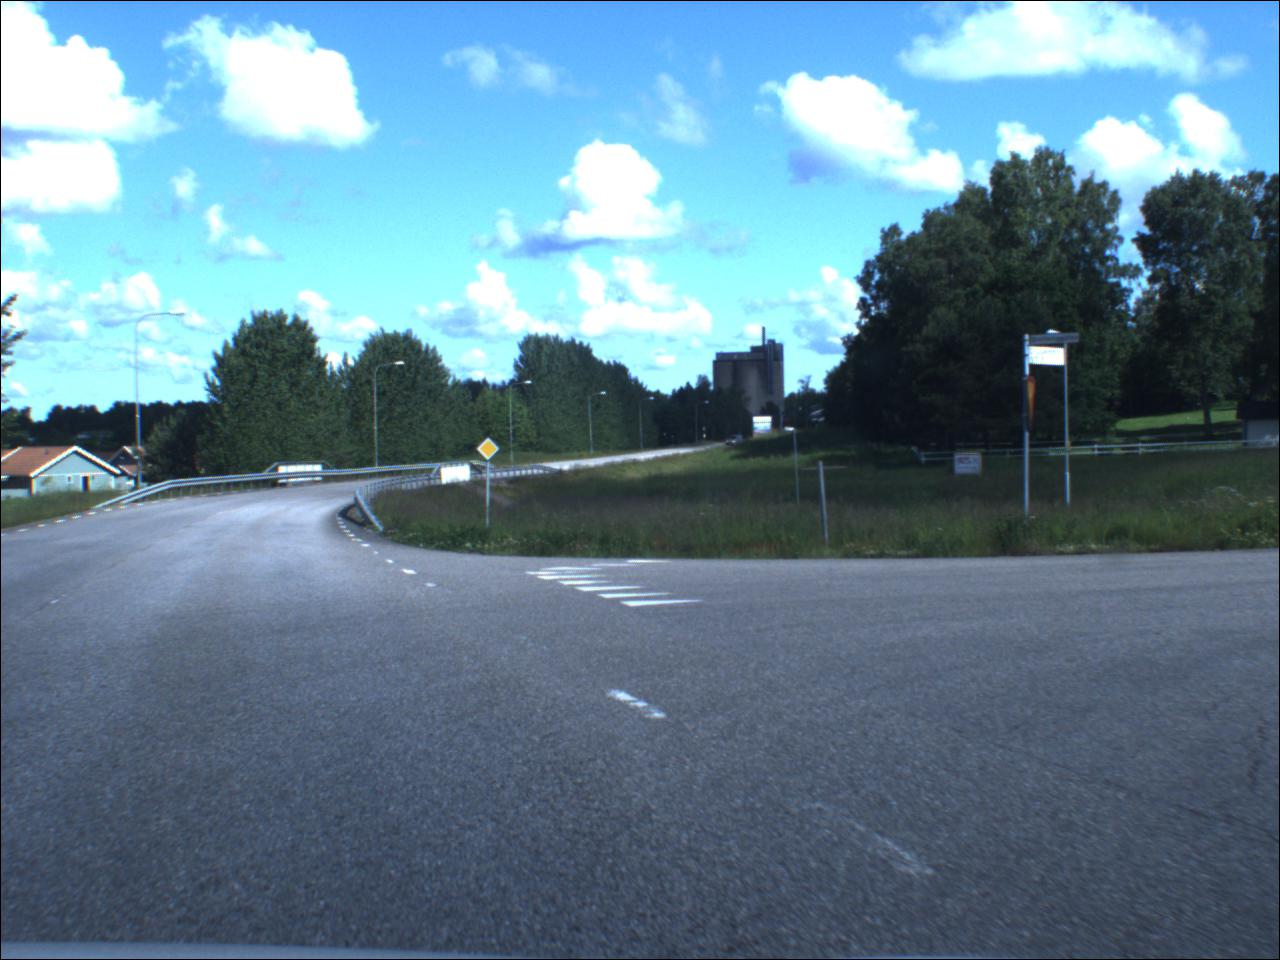PRIORITY_ROAD: (479, 438, 503, 463)
